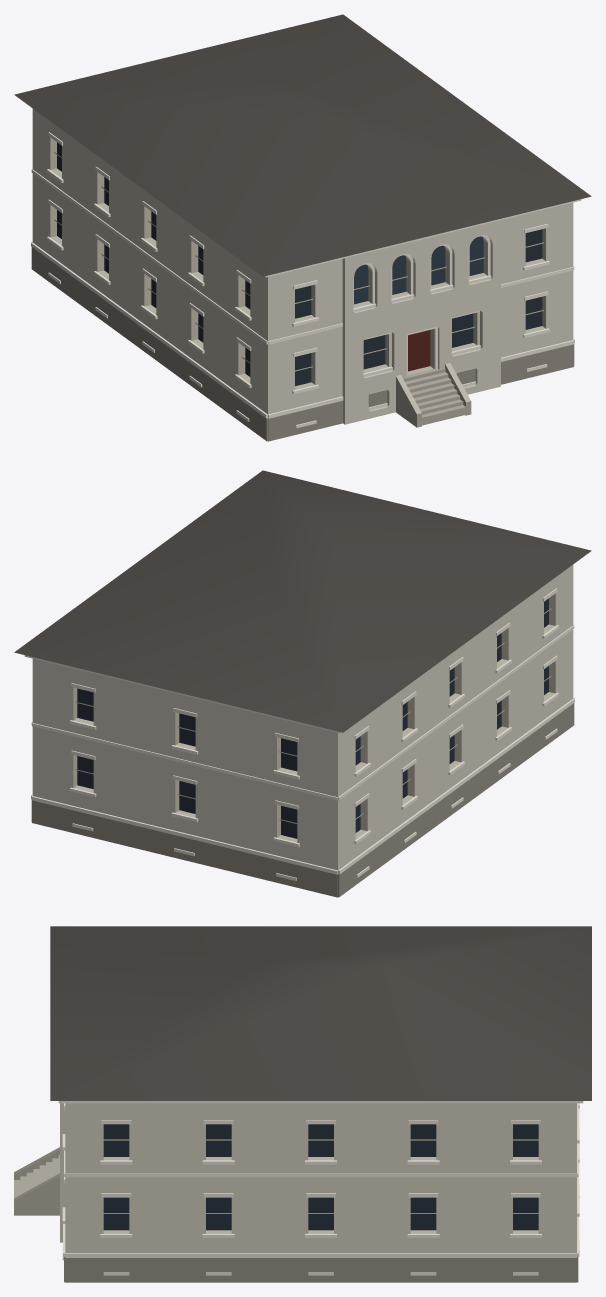
Rendered from ch-pulaski-heights-methodist-old-1961.glb.
The picture shows the model from 3 angles, top to bottom: view 1: azimuth 30°, elevation 25°; view 2: azimuth 150°, elevation 25°; view 3: azimuth 270°, elevation 25°; orthographic projection. The views are drawn at different scales.
Parts seen in each view (by area): view 1: ch_roof, ch_brick, ch_trim, ch_base, ch_brick2, ch_glass, ch_conc, ch_stain, ch_door; view 2: ch_roof, ch_brick, ch_base, ch_trim, ch_glass, ch_brick2; view 3: ch_roof, ch_brick, ch_base, ch_trim, ch_glass, ch_conc, ch_brick2.
Boxes of the visible parts, <box> form: ch_roof: <box>14,14,591,276</box>; ch_brick: <box>32,108,573,424</box>; ch_trim: <box>31,132,581,428</box>; ch_base: <box>31,247,574,441</box>; ch_brick2: <box>50,137,545,389</box>; ch_glass: <box>57,142,542,386</box>; ch_conc: <box>396,363,471,427</box>; ch_stain: <box>354,236,483,304</box>; ch_door: <box>408,330,430,371</box>; ch_roof: <box>14,470,591,732</box>; ch_brick: <box>32,564,573,870</box>; ch_base: <box>31,703,574,897</box>; ch_trim: <box>24,588,574,880</box>; ch_glass: <box>77,598,548,838</box>; ch_brick2: <box>73,593,555,842</box>; ch_roof: <box>50,926,591,1100</box>; ch_brick: <box>60,1103,576,1253</box>; ch_base: <box>64,1257,578,1282</box>; ch_trim: <box>58,1101,583,1275</box>; ch_glass: <box>103,1124,538,1230</box>; ch_conc: <box>14,1147,59,1215</box>; ch_brick2: <box>103,1157,538,1233</box>.
Size of the model in its own units: 19.4 by 12.2 by 27.1.
